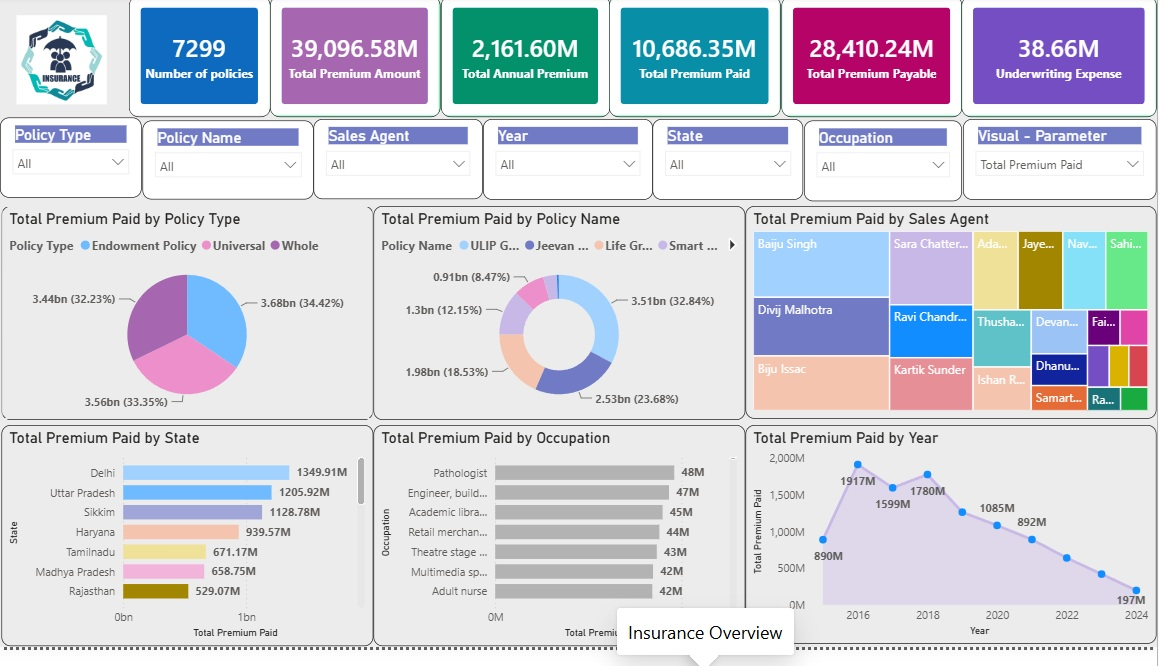

This screenshot's page, from the dashboard's own definition file:
{"tool":"powerbi","page":{"name":"Insurance Overview","canvas":[1280,720],"ordinal":3},"visuals":[{"type":"cardVisual","fields":{"Data":["CountNonNull(DM Customer_Detail_Table.Customer ID)"]},"box":[141.9,0,156.5,133.9],"z":0},{"type":"cardVisual","fields":{"Data":["Sum(FCT Insurance_Policy_Table.Total Annual Premium)"]},"box":[487.1,0,187.1,133.9],"z":1000},{"type":"cardVisual","fields":{"Data":["Sum(FCT Insurance_Policy_Table.Total Premium Amount)"]},"box":[298.4,0,188.7,133.9],"z":2000},{"type":"cardVisual","fields":{"Data":["Sum(FCT Insurance_Policy_Table.Total Premium Paid)"]},"box":[674.2,0,190.3,133.9],"z":3000},{"type":"cardVisual","fields":{"Data":["Sum(FCT Insurance_Policy_Table.Total Premium Payable)"]},"box":[864.5,0,200,133.9],"z":4000},{"type":"cardVisual","fields":{"Data":["FCT Insurance_Policy_Table.underwriting expense"]},"box":[1064.5,0,216.1,133.9],"z":5000},{"type":"image","box":[17.7,16.1,100,108.1],"z":6000},{"type":"slicer","fields":{"Values":["DM Policy_Type.Policy Type"]},"box":[0,133.9,156.5,88.7],"z":7000},{"type":"slicer","fields":{"Values":["DM Policy_Protection_Plan.Policy Name"]},"box":[157.1,137.6,189.4,87.4],"z":8000},{"type":"slicer","fields":{"Values":["DM Insurance_Agent_Table.Sales Agent"]},"box":[346.5,136,187.1,88.7],"z":9000},{"type":"slicer","fields":{"Values":["FCT Insurance_Policy_Table.Start Date.Variation.Date Hierarchy.Year"]},"box":[534.3,136,187.8,89.1],"z":10000},{"type":"slicer","fields":{"Values":["DM Customer_Detail_Table.Occupation"]},"box":[889,137.6,174.9,89.1],"z":11000},{"type":"slicer","fields":{"Values":["DM Customer_Detail_Table.State"]},"box":[722.2,136,166.8,89.1],"z":12000},{"type":"pieChart","fields":{"Y":["FCT Insurance_Policy_Table.Total Premium_Paid"],"Category":["DM Policy_Type.Policy Type"]},"box":[1.6,231.5,411.3,236.4],"z":13000},{"type":"donutChart","fields":{"Y":["FCT Insurance_Policy_Table.Total Premium_Paid"],"Category":["DM Policy_Protection_Plan.Policy Name"]},"box":[412.9,231.5,411.3,236.4],"z":14000},{"type":"treemap","fields":{"Values":["FCT Insurance_Policy_Table.Total Premium_Paid"],"Group":["DM Insurance_Agent_Table.Sales Agent"]},"box":[824.8,232.3,454.7,235.6],"z":15000},{"type":"barChart","fields":{"Y":["FCT Insurance_Policy_Table.Total Premium_Paid"],"Category":["DM Customer_Detail_Table.State"]},"box":[1.6,474.4,411.3,244.5],"z":16000},{"type":"barChart","fields":{"Y":["FCT Insurance_Policy_Table.Total Premium_Paid"],"Category":["DM Customer_Detail_Table.Occupation"]},"box":[412.9,474.4,411.3,244.5],"z":17000},{"type":"areaChart","fields":{"Y":["FCT Insurance_Policy_Table.Total Premium_Paid"],"Category":["FCT Insurance_Policy_Table.Start Date.Variation.Date Hierarchy.Year"]},"box":[824.8,474.6,454.7,242.3],"z":18000},{"type":"slicer","fields":{"Values":["visual - Parameter.visual - Parameter"]},"box":[1065.5,136,213.7,89.1],"z":19000}]}

Visuals, with their boxes in screenshot pixels (x1, y1, x2, y2), scaled from the page's 1280x720 canvas onto the 1160x666 screenshot:
cardVisual - CountNonNull(DM Customer_Detail_Table.Customer ID): locate(129, 0, 270, 124)
cardVisual - Sum(FCT Insurance_Policy_Table.Total Annual Premium): locate(441, 0, 611, 124)
cardVisual - Sum(FCT Insurance_Policy_Table.Total Premium Amount): locate(270, 0, 441, 124)
cardVisual - Sum(FCT Insurance_Policy_Table.Total Premium Paid): locate(611, 0, 783, 124)
cardVisual - Sum(FCT Insurance_Policy_Table.Total Premium Payable): locate(783, 0, 965, 124)
cardVisual - FCT Insurance_Policy_Table.underwriting expense: locate(965, 0, 1159, 124)
image: locate(16, 15, 107, 115)
slicer - DM Policy_Type.Policy Type: locate(0, 124, 142, 206)
slicer - DM Policy_Protection_Plan.Policy Name: locate(142, 127, 314, 208)
slicer - DM Insurance_Agent_Table.Sales Agent: locate(314, 126, 484, 208)
slicer - FCT Insurance_Policy_Table.Start Date.Variation.Date Hierarchy.Year: locate(484, 126, 654, 208)
slicer - DM Customer_Detail_Table.Occupation: locate(806, 127, 964, 210)
slicer - DM Customer_Detail_Table.State: locate(654, 126, 806, 208)
pieChart - FCT Insurance_Policy_Table.Total Premium_Paid x DM Policy_Type.Policy Type: locate(1, 214, 374, 433)
donutChart - FCT Insurance_Policy_Table.Total Premium_Paid x DM Policy_Protection_Plan.Policy Name: locate(374, 214, 747, 433)
treemap - FCT Insurance_Policy_Table.Total Premium_Paid x DM Insurance_Agent_Table.Sales Agent: locate(747, 215, 1159, 433)
barChart - FCT Insurance_Policy_Table.Total Premium_Paid x DM Customer_Detail_Table.State: locate(1, 439, 374, 665)
barChart - FCT Insurance_Policy_Table.Total Premium_Paid x DM Customer_Detail_Table.Occupation: locate(374, 439, 747, 665)
areaChart - FCT Insurance_Policy_Table.Total Premium_Paid x FCT Insurance_Policy_Table.Start Date.Variation.Date Hierarchy.Year: locate(747, 439, 1159, 663)
slicer - visual - Parameter.visual - Parameter: locate(966, 126, 1159, 208)
